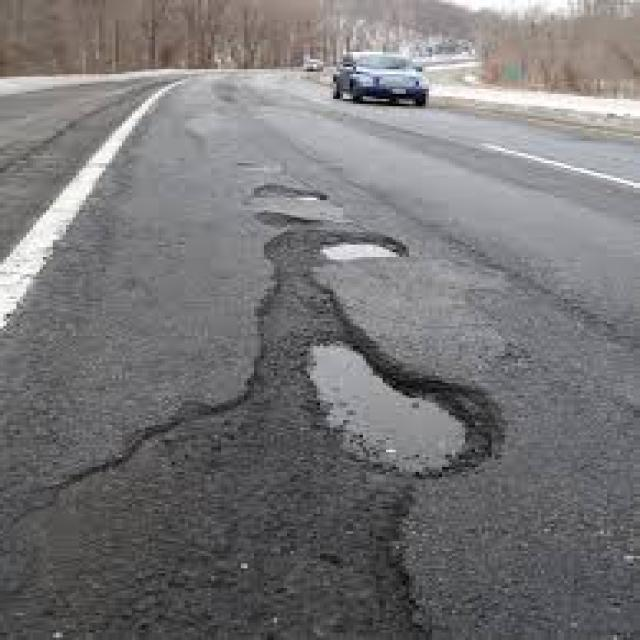pothole: (295, 319, 507, 483), (316, 228, 410, 266), (263, 178, 331, 210)
